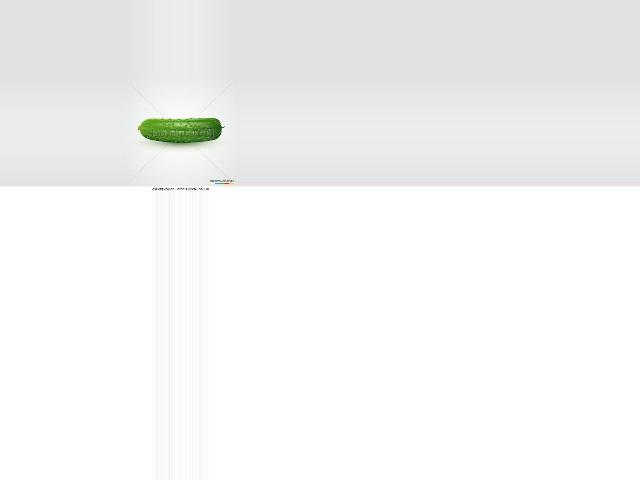cucumber: (136, 117, 224, 142)
